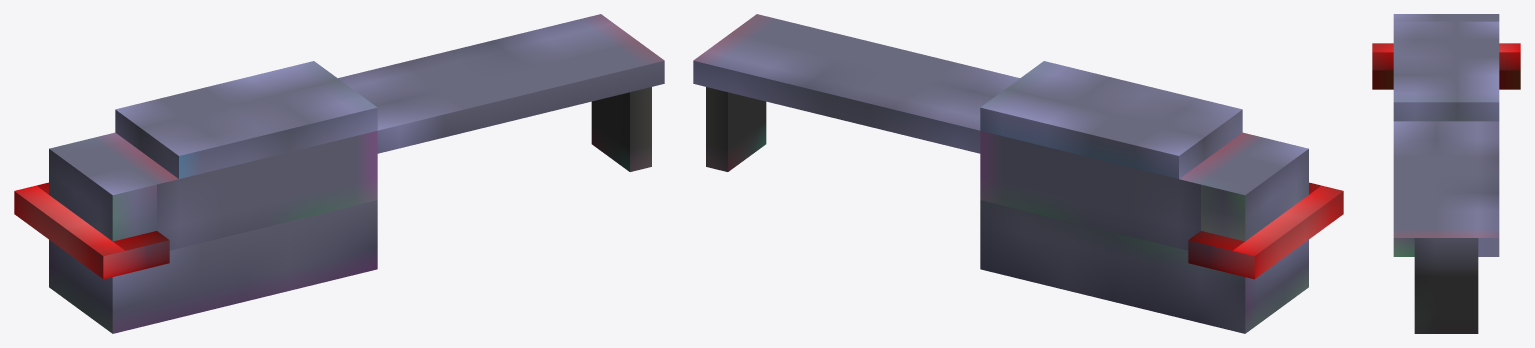
Rendered from Scooter_Big_E_00.fbx.
3 renders of one model, left to right at view 1: azimuth 30°, elevation 25°; view 2: azimuth 150°, elevation 25°; view 3: azimuth 270°, elevation 25°, orthographic. The views are drawn at different scales.
Visible parts, largest first — view 1: Scooter_Big_E_00; view 2: Scooter_Big_E_00; view 3: Scooter_Big_E_00.
Boxes of the visible parts, left/top/right/bottom form: Scooter_Big_E_00: left=14, top=14, right=664, bottom=333; Scooter_Big_E_00: left=693, top=14, right=1343, bottom=333; Scooter_Big_E_00: left=1372, top=14, right=1520, bottom=333.
Bounding box in the file's own units: 130 × 35 × 35.
